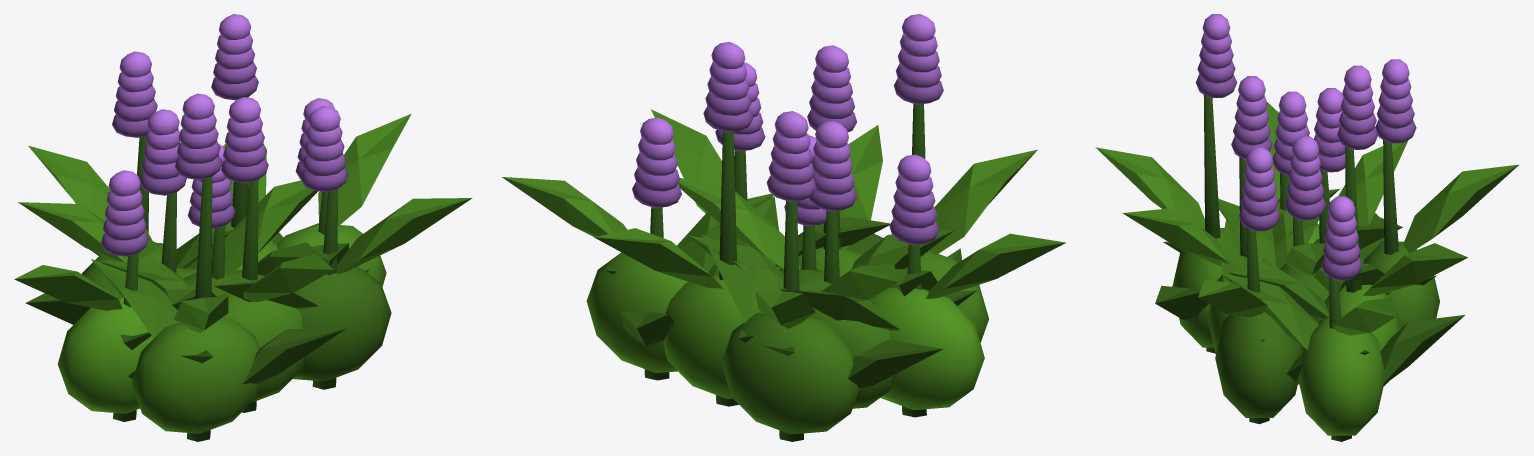
Rendered from lavender.glb.
3 renders of one model, left to right at view 1: azimuth 30°, elevation 25°; view 2: azimuth 150°, elevation 25°; view 3: azimuth 270°, elevation 25°, orthographic. The views are drawn at different scales.
Visible parts, largest first — view 1: lavender; view 2: lavender; view 3: lavender.
Boxes of the visible parts, x1,y1,x2,y2 form: lavender: (14, 14, 472, 441); lavender: (502, 14, 1065, 441); lavender: (1095, 14, 1518, 441).
Size of the model in its own units: 1.03 by 0.72 by 0.83.
